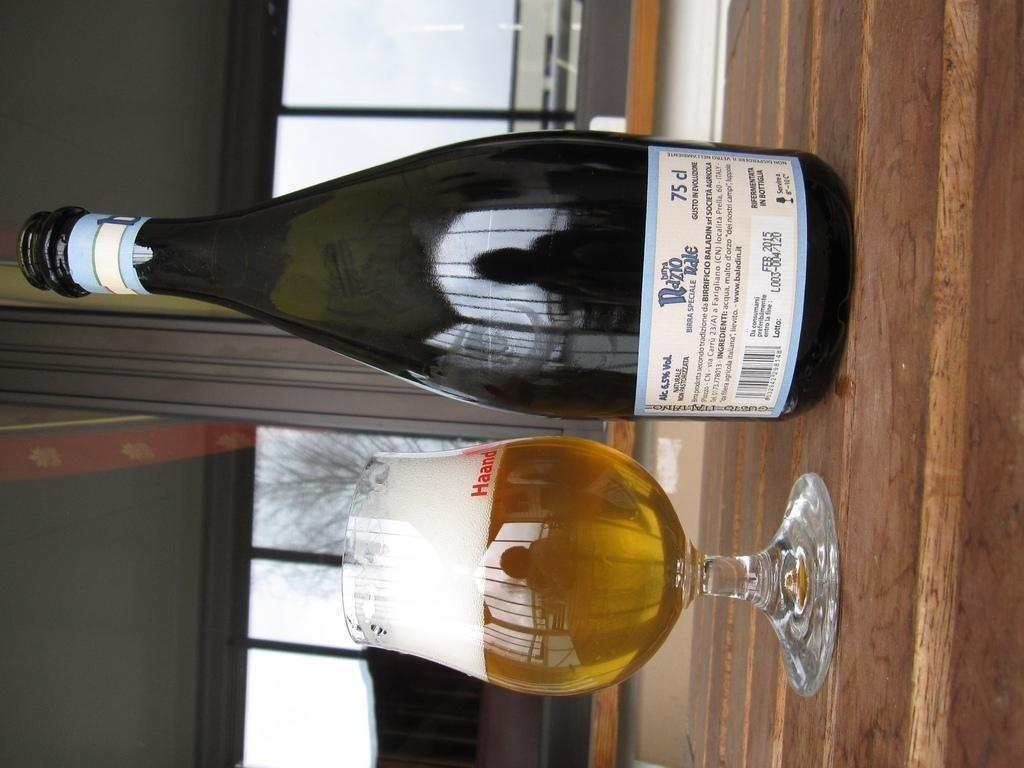bottle-glass: (21, 128, 854, 426)
glass-wine: (332, 429, 844, 707)
